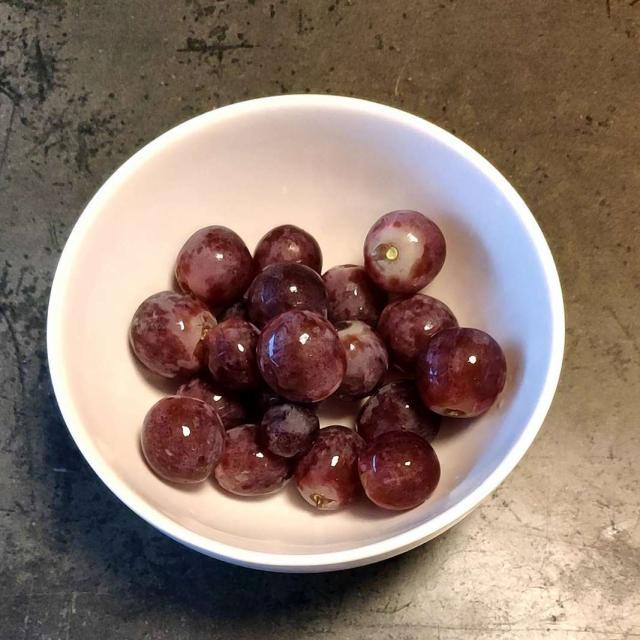grapes: (133, 212, 506, 504)
